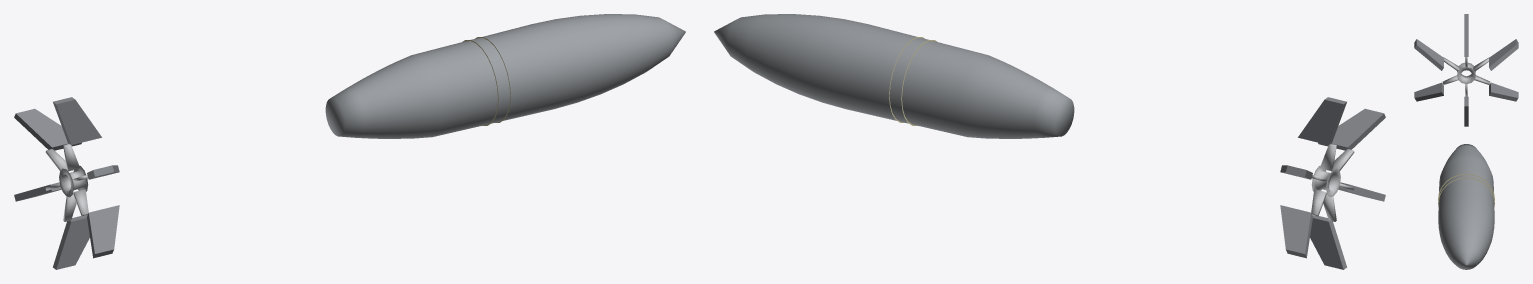
File: CN_TORP_Yu7_LOD1.fbx
The picture shows the model from 3 angles, left to right: view 1: azimuth 30°, elevation 25°; view 2: azimuth 150°, elevation 25°; view 3: azimuth 270°, elevation 25°; orthographic projection. The views are drawn at different scales.
Parts seen in each view (by area): view 1: WPN_CN_TORP_Yu7_LOD1_Body, WPN_CN_TORP_Yu7_LOD1_Fins, WPN_CN_TORP_Yu7_LOD1_Propulsor; view 2: WPN_CN_TORP_Yu7_LOD1_Body, WPN_CN_TORP_Yu7_LOD1_Fins, WPN_CN_TORP_Yu7_LOD1_Propulsor; view 3: WPN_CN_TORP_Yu7_LOD1_Body, WPN_CN_TORP_Yu7_LOD1_Fins, WPN_CN_TORP_Yu7_LOD1_Propulsor, WPN_CN_TORP_Yu7_LOD1_Marking.
Boxes of the visible parts, <box> form: WPN_CN_TORP_Yu7_LOD1_Body: <box>325,14,685,138</box>; WPN_CN_TORP_Yu7_LOD1_Fins: <box>14,97,119,269</box>; WPN_CN_TORP_Yu7_LOD1_Propulsor: <box>45,143,88,221</box>; WPN_CN_TORP_Yu7_LOD1_Body: <box>714,14,1074,138</box>; WPN_CN_TORP_Yu7_LOD1_Fins: <box>1280,97,1385,269</box>; WPN_CN_TORP_Yu7_LOD1_Propulsor: <box>1311,143,1354,221</box>; WPN_CN_TORP_Yu7_LOD1_Body: <box>1438,144,1494,269</box>; WPN_CN_TORP_Yu7_LOD1_Fins: <box>1414,14,1518,126</box>; WPN_CN_TORP_Yu7_LOD1_Propulsor: <box>1442,57,1490,96</box>; WPN_CN_TORP_Yu7_LOD1_Marking: <box>1438,173,1494,206</box>.
Size of the model in its own units: 2.68 by 0.5959 by 0.6732.
